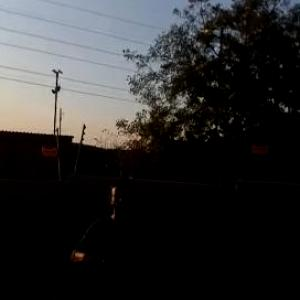follow: (62, 160, 154, 299)
